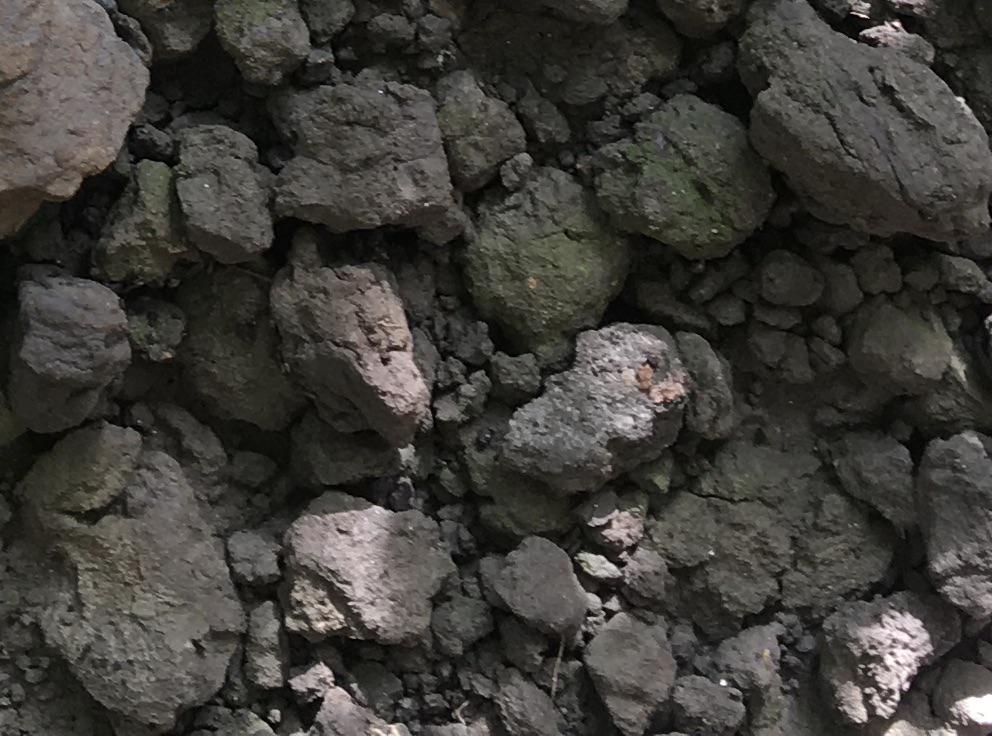block: (15, 418, 244, 727), (739, 2, 992, 251), (1, 1, 152, 240), (261, 82, 471, 250), (585, 94, 779, 262), (261, 260, 435, 445), (503, 325, 694, 492), (467, 164, 627, 338), (274, 488, 451, 645), (7, 276, 122, 436)
